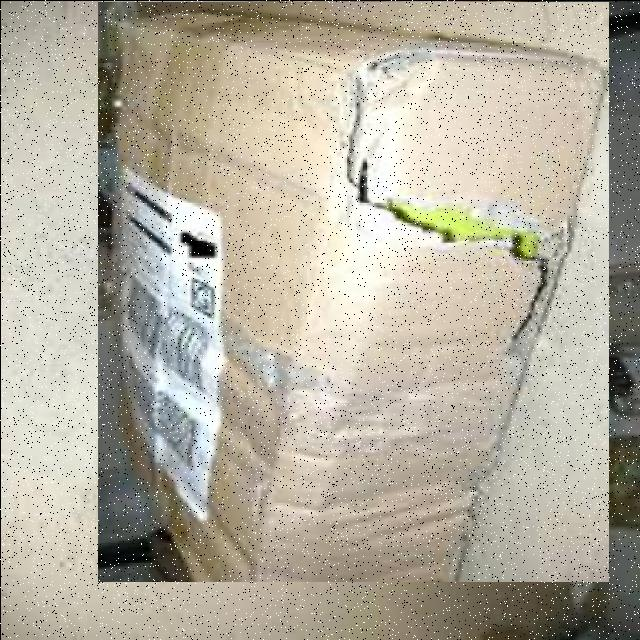defect: (97, 1, 608, 582)
